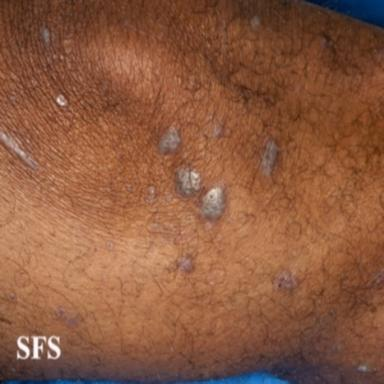lichen: (0, 127, 39, 173), (199, 178, 228, 219), (175, 164, 201, 196), (261, 140, 278, 175), (159, 127, 180, 154), (55, 307, 83, 327), (274, 271, 299, 291), (176, 254, 195, 272), (145, 185, 156, 204), (357, 364, 377, 374), (55, 94, 68, 108), (213, 122, 223, 138), (41, 28, 50, 44), (250, 15, 261, 28), (107, 241, 114, 250), (126, 183, 133, 192), (165, 194, 172, 203)
